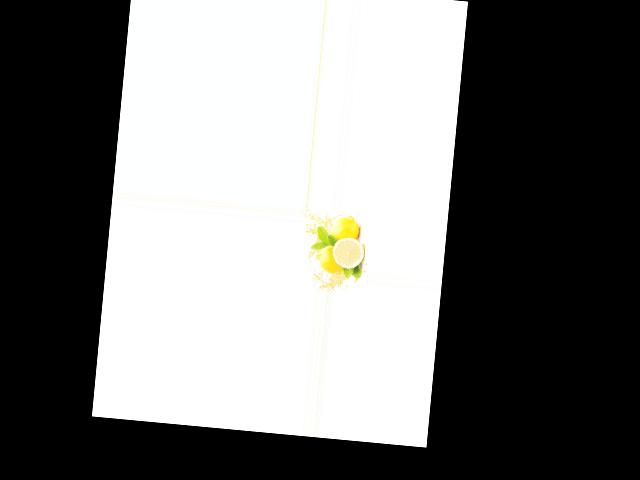lemon: (326, 215, 361, 248)
